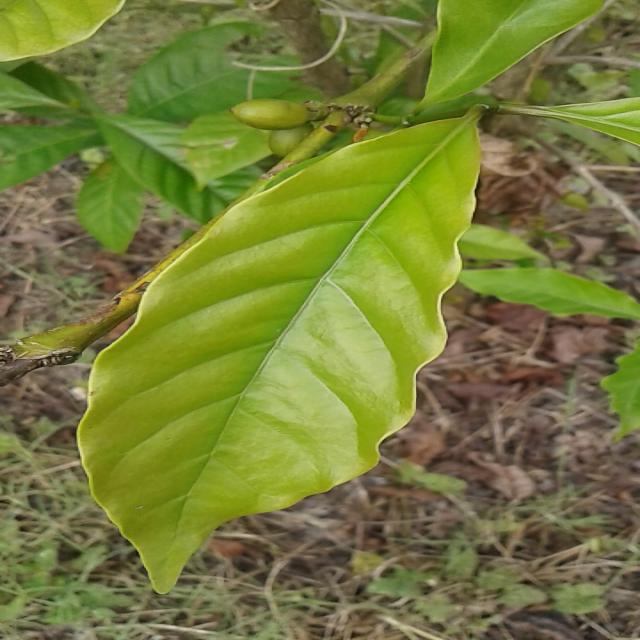Sanas: (36, 108, 483, 597)
